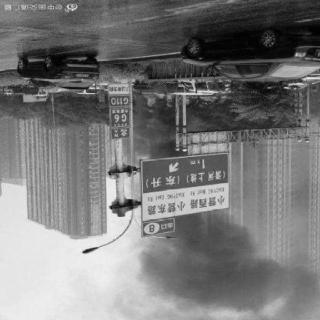Fire: (138, 88, 176, 116)
